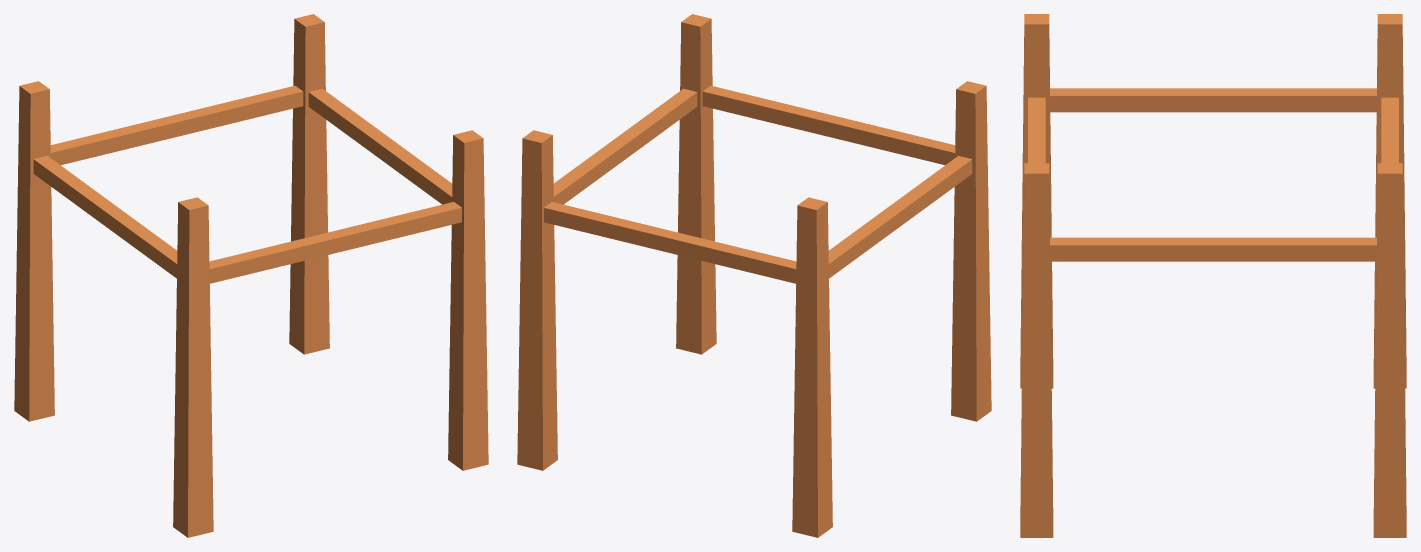
File: structure.obj
3 renders of one model, left to right at view 1: azimuth 30°, elevation 25°; view 2: azimuth 150°, elevation 25°; view 3: azimuth 270°, elevation 25°, orthographic. The views are drawn at different scales.
Parts seen in each view (by area): view 1: structure; view 2: structure; view 3: structure.
Boxes of the visible parts, left/top/right/bottom form: structure: left=14, top=14, right=488, bottom=537; structure: left=517, top=14, right=991, bottom=537; structure: left=1020, top=14, right=1406, bottom=537.
Bounding box in the file's own units: 0.5 × 0.5175 × 0.5.
